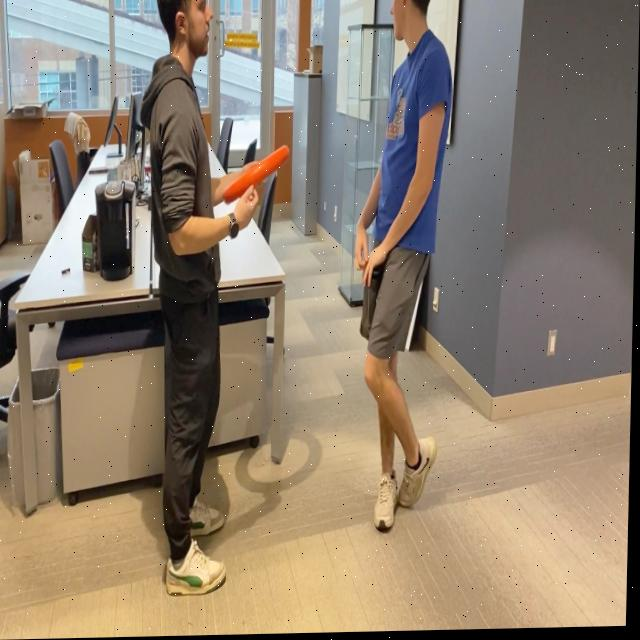note: (223, 137, 293, 206)
